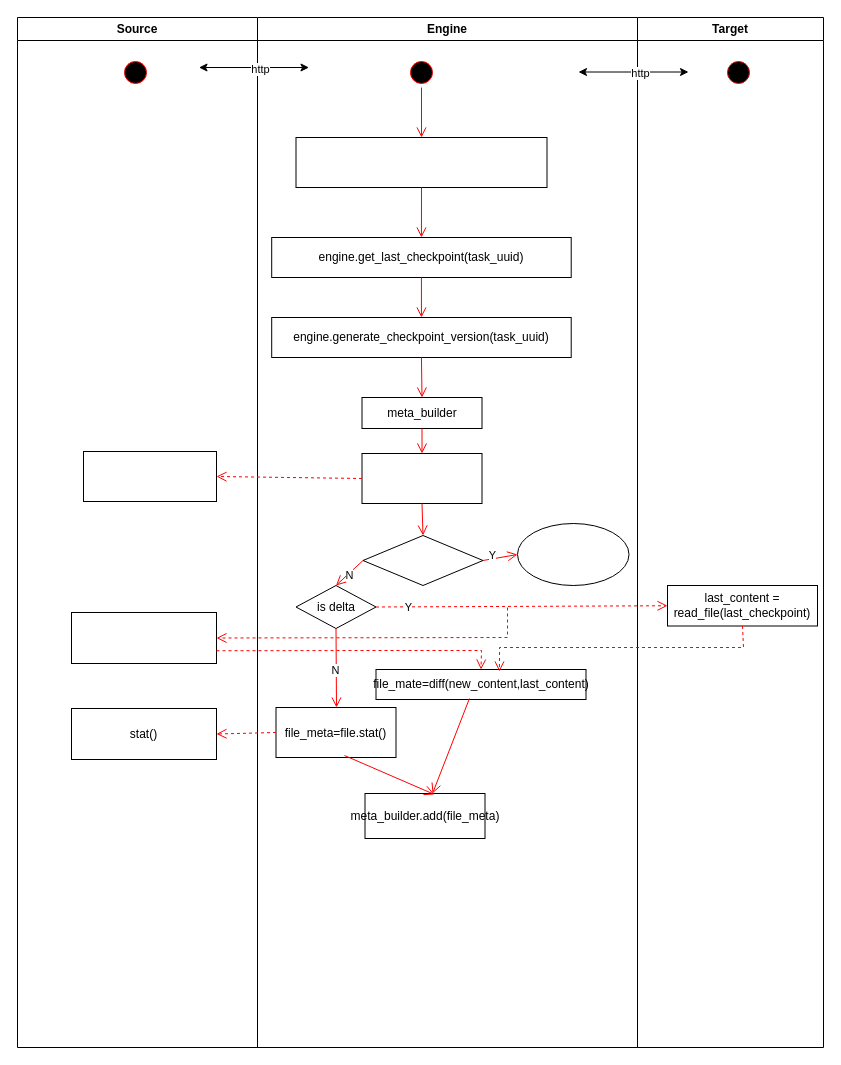
Some shapes in this 841 by 1065 pixel diagram are drawn without their labels. Each missing label, with the centre of its shape:
"end： meta_builder.build()" belongs at [572,554].
"file.is_none" belongs at [422,560].
"file=get_next_file(url)" belongs at [421,478].
"iterater.get_next_file()" belongs at [149,476].
"meta=prepare_checkpoint(preserved_state)" belongs at [421,162].
"new_content = read_file()" belongs at [143,638].
